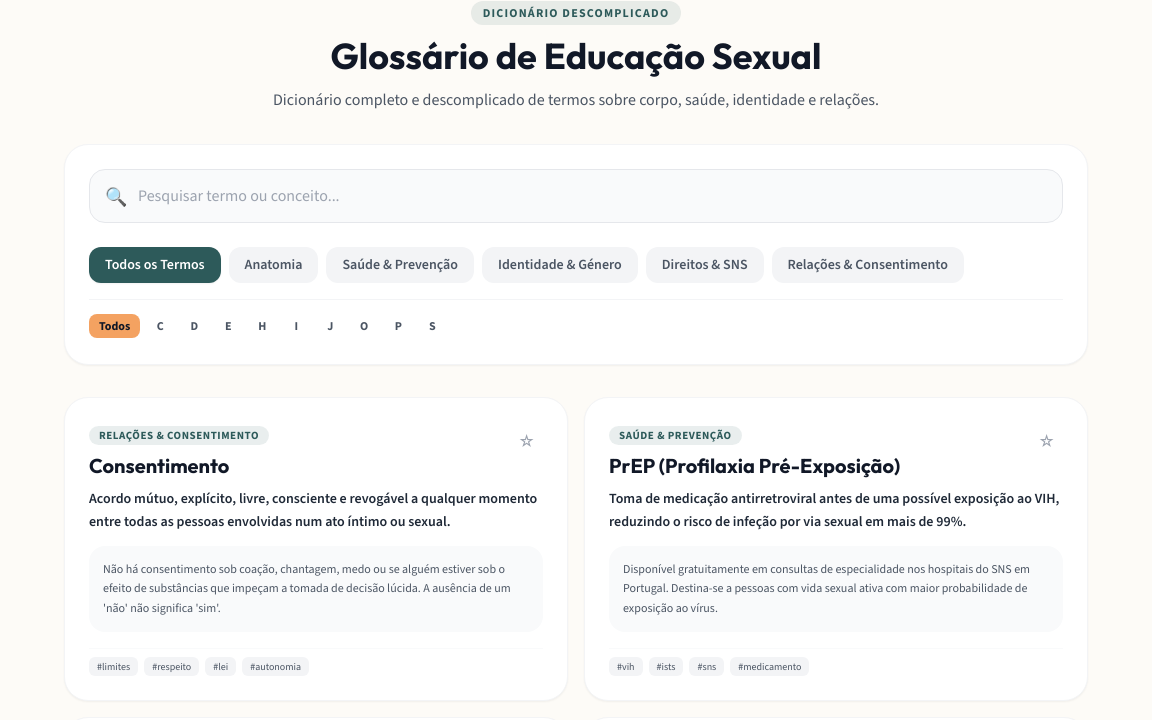
GlossaryTab › clears search on X button click
The image size is (1152, 720).
Type "vulva" into the field with placeholder "Pesquisar termo ou conceito...".
click(576, 196); type("vulva")  # box x1=89 y1=169 x2=1063 y2=223
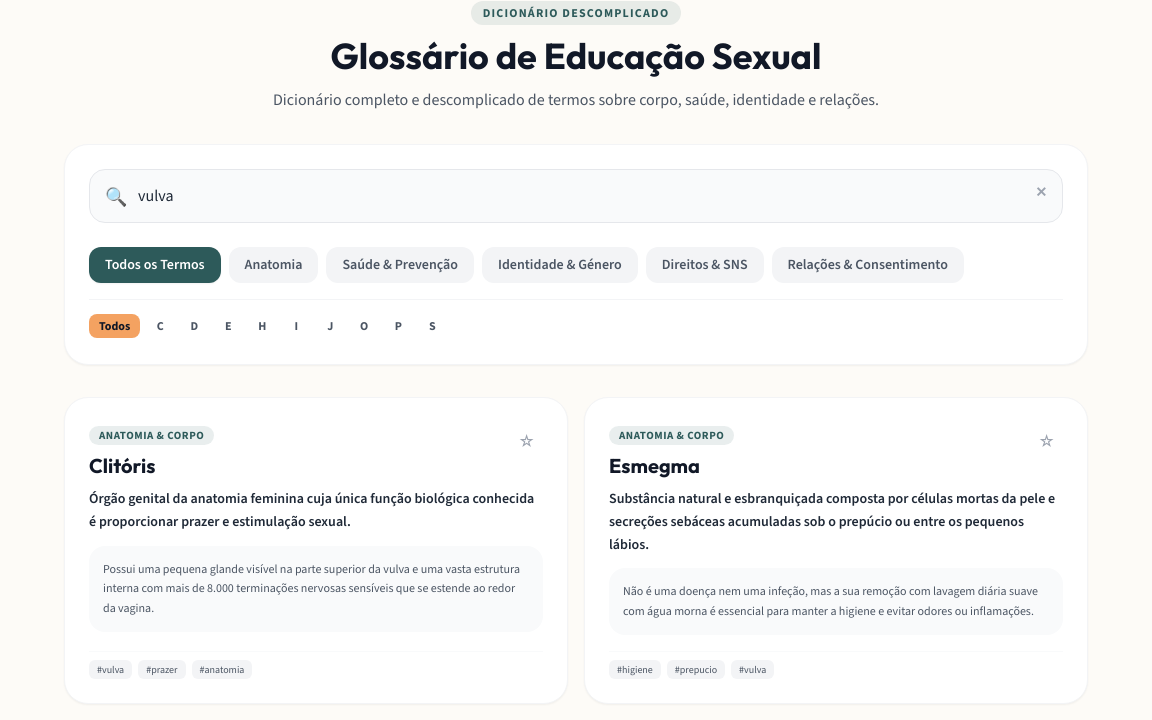
Click the button "✕".
click(1041, 193)  # box x1=1035 y1=183 x2=1047 y2=203
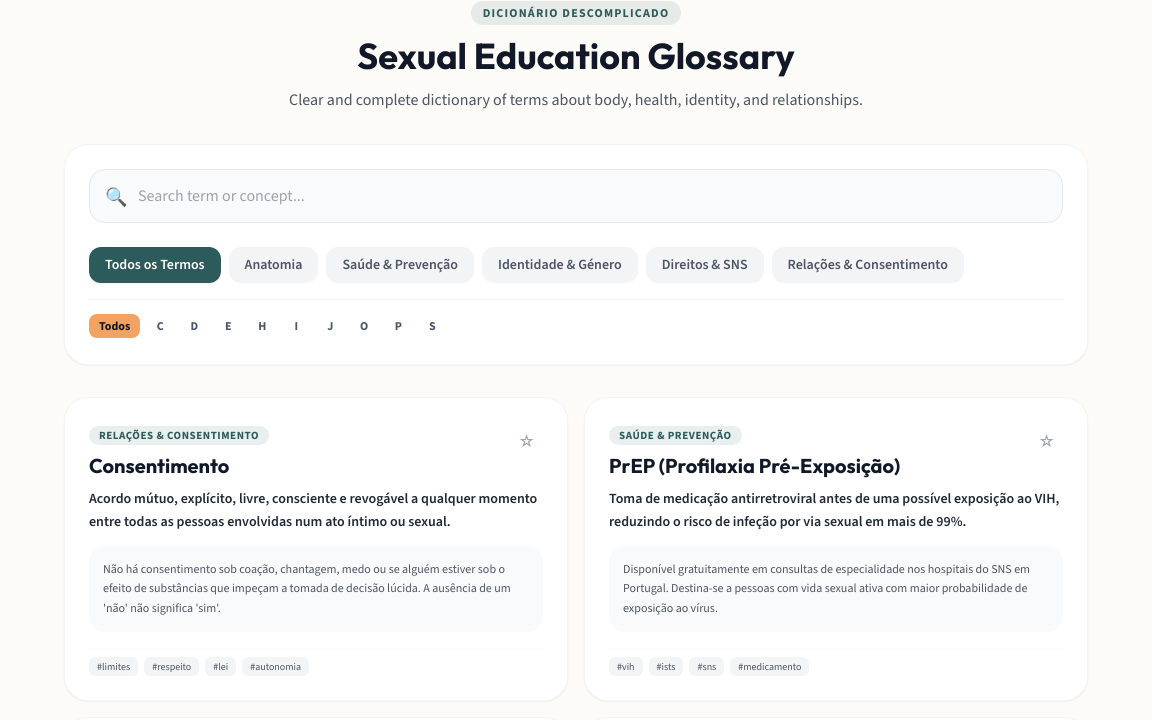
expect the field with placeholder "pesquisar termo ou conceito" is empty: met, box x1=89 y1=169 x2=1063 y2=223
